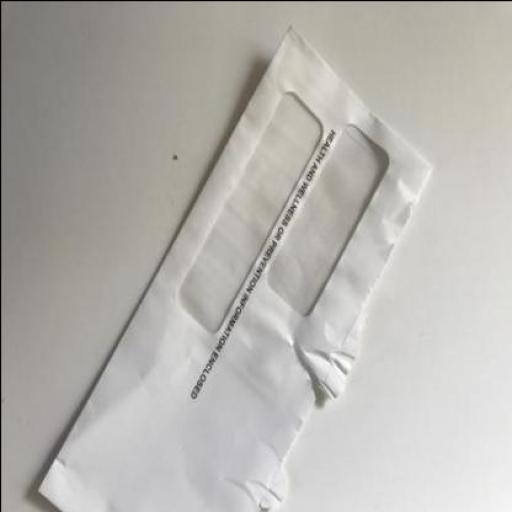paper: (37, 31, 434, 511)
